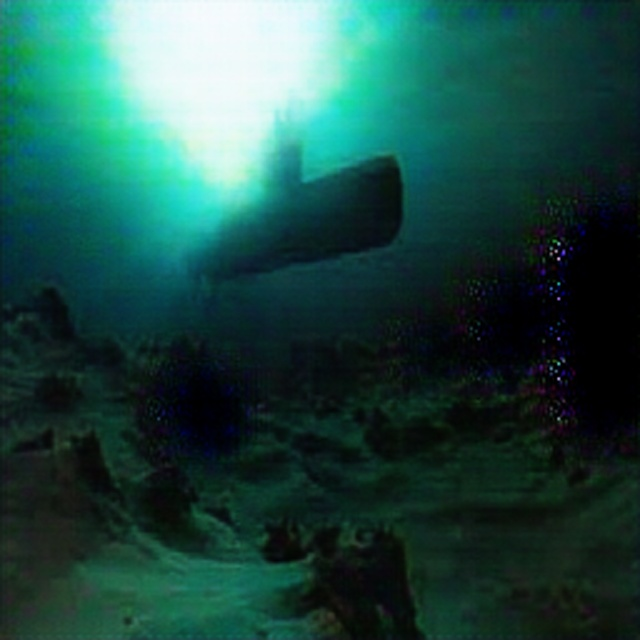submarine: (186, 110, 404, 294)
